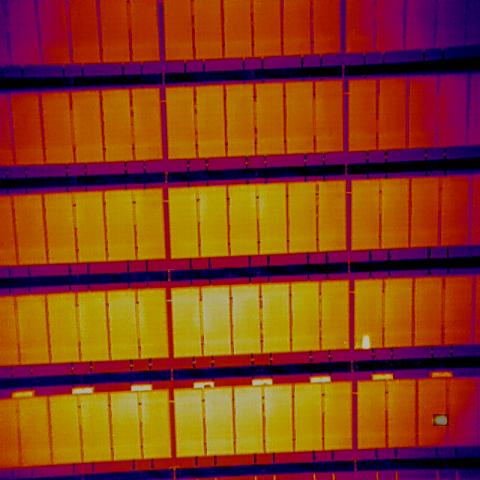fault: (433, 414, 449, 426), (362, 333, 371, 350)
